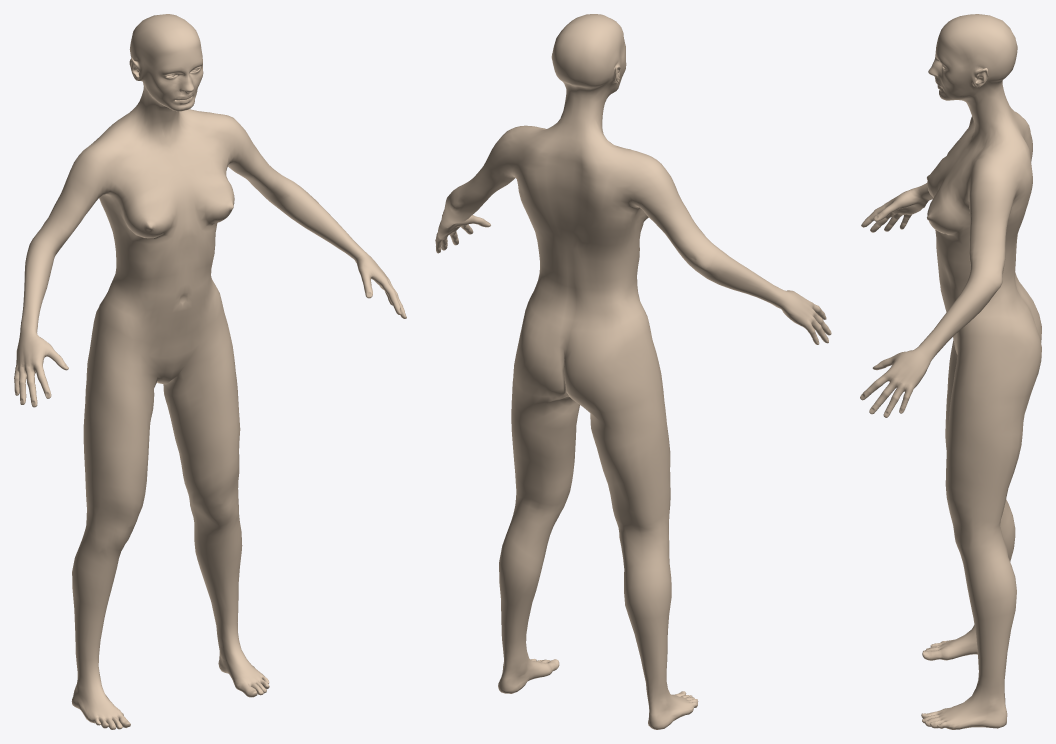
The model's file is estela2.fbx.
3 views of the same model, side by side, from view 1: azimuth 30°, elevation 25°; view 2: azimuth 150°, elevation 25°; view 3: azimuth 270°, elevation 25° (orthographic).
Parts seen in each view (by area): view 1: estela.estela.female_generic; view 2: estela.estela.female_generic; view 3: estela.estela.female_generic.
Part boxes in pixels (<box>): estela.estela.female_generic: <box>14,14,406,729</box>; estela.estela.female_generic: <box>435,14,831,729</box>; estela.estela.female_generic: <box>860,14,1041,729</box>.
Size of the model in its own units: 97.32 by 164 by 40.14.
